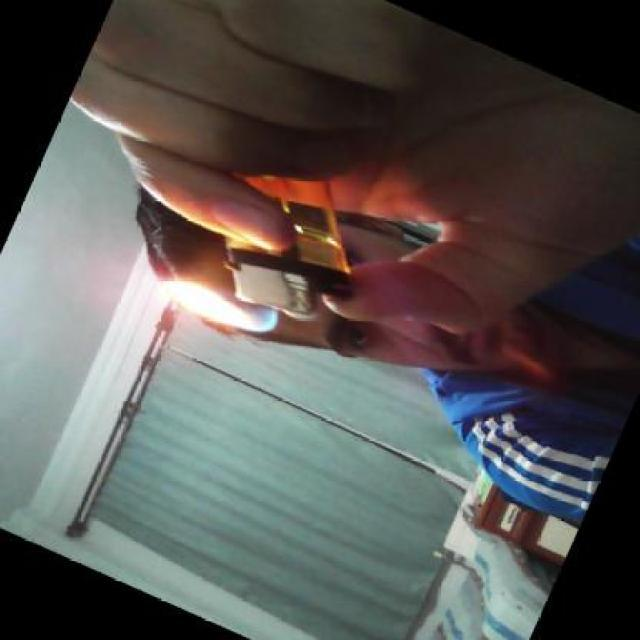Fire: (154, 286, 284, 339)
